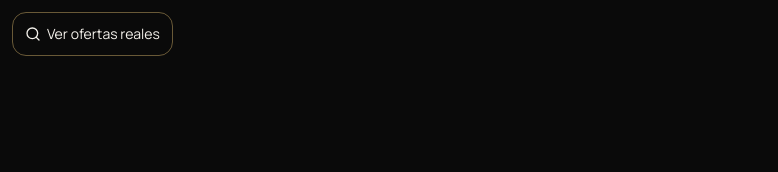
Test case: los flujos lo usan › ofertas reales de un hotel: globo pasados 5 s
Click the button with test id "hotel-ofertas-ver".
click(92, 34)  # box [12,12,173,56]
Wait 5000 ms
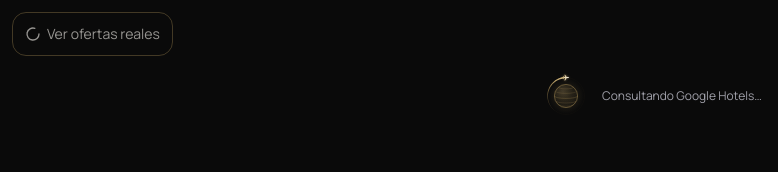
Check: the text "Consultando Google Hotels…" is shown, box [602,88,762,104]
